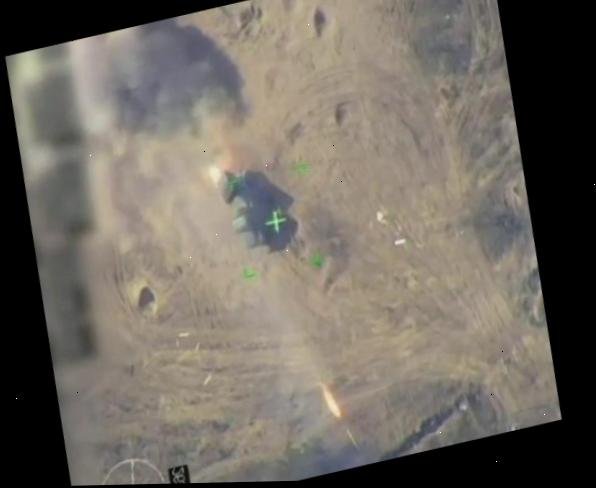rszo: (209, 160, 280, 254)
